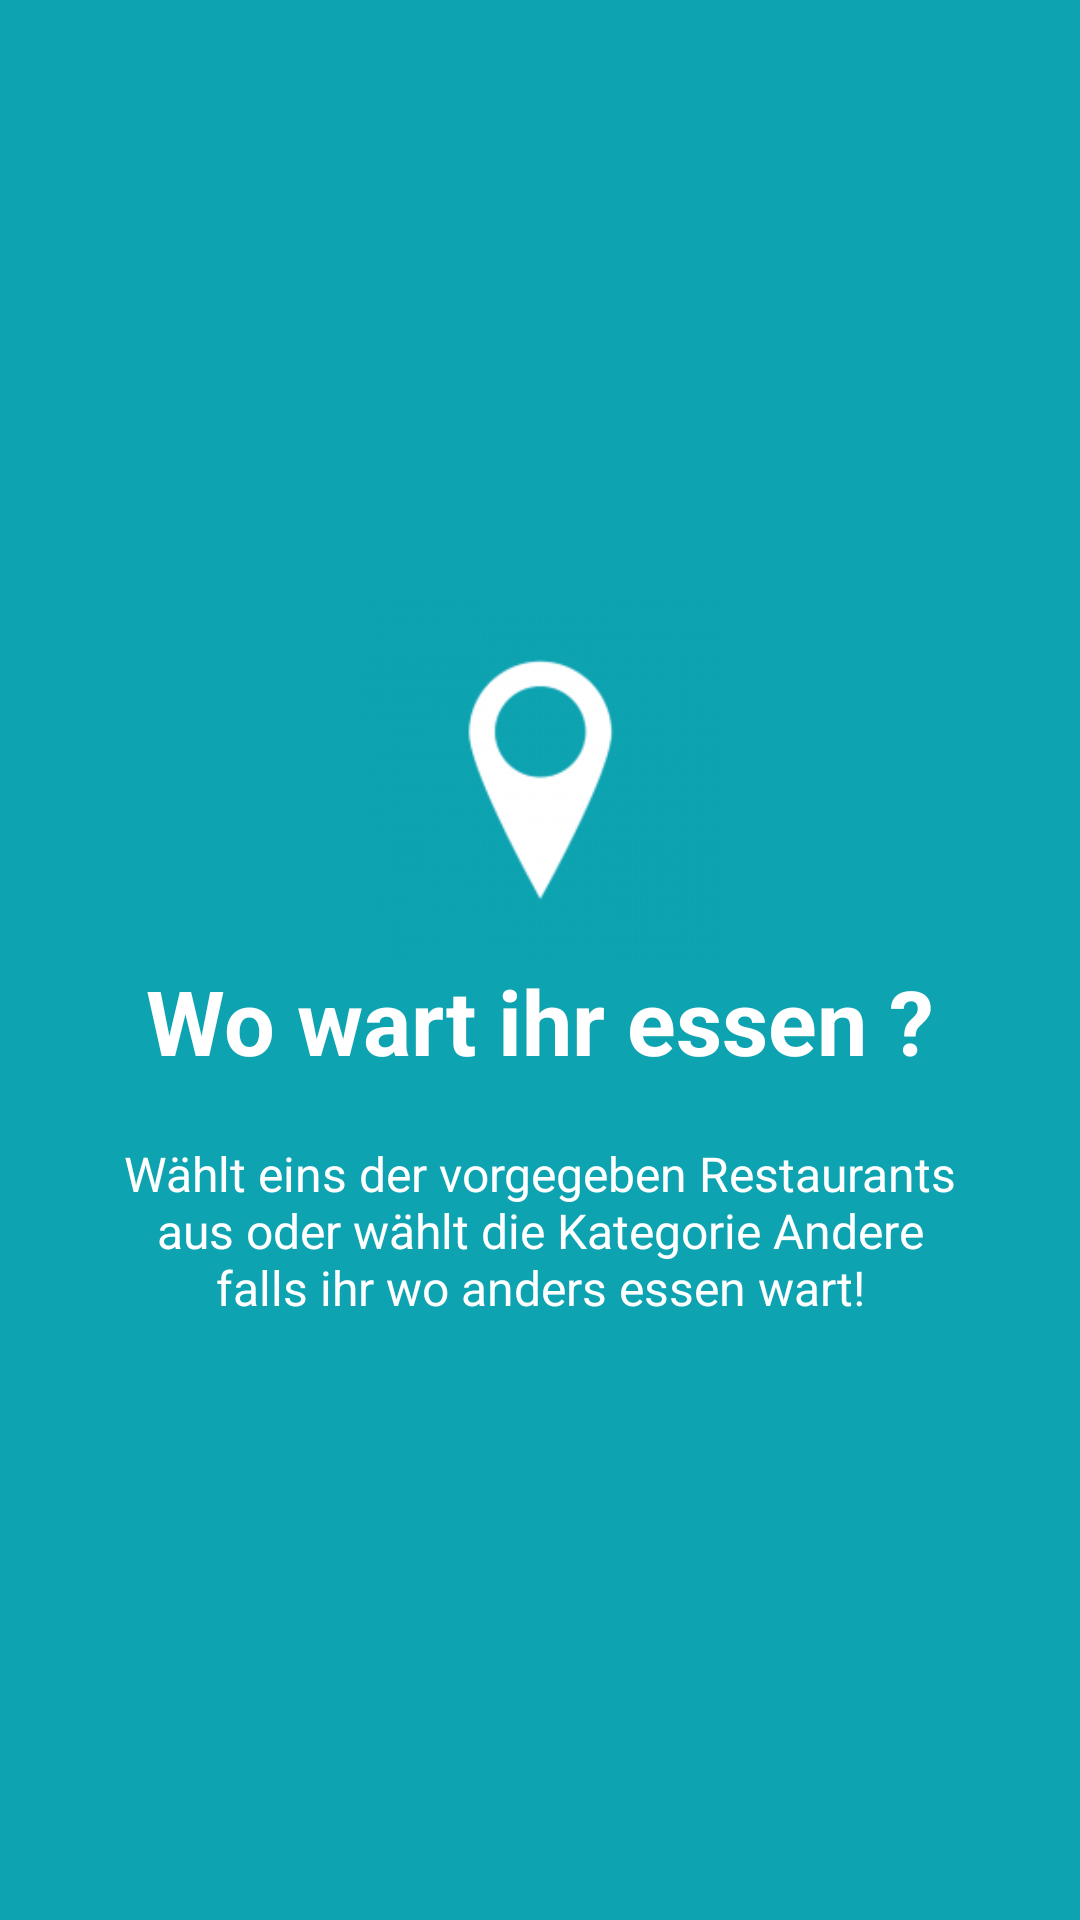

Named icons in this screenshot (1080w x 1920h) and their centers, [x,y]:
location: [540,779]
